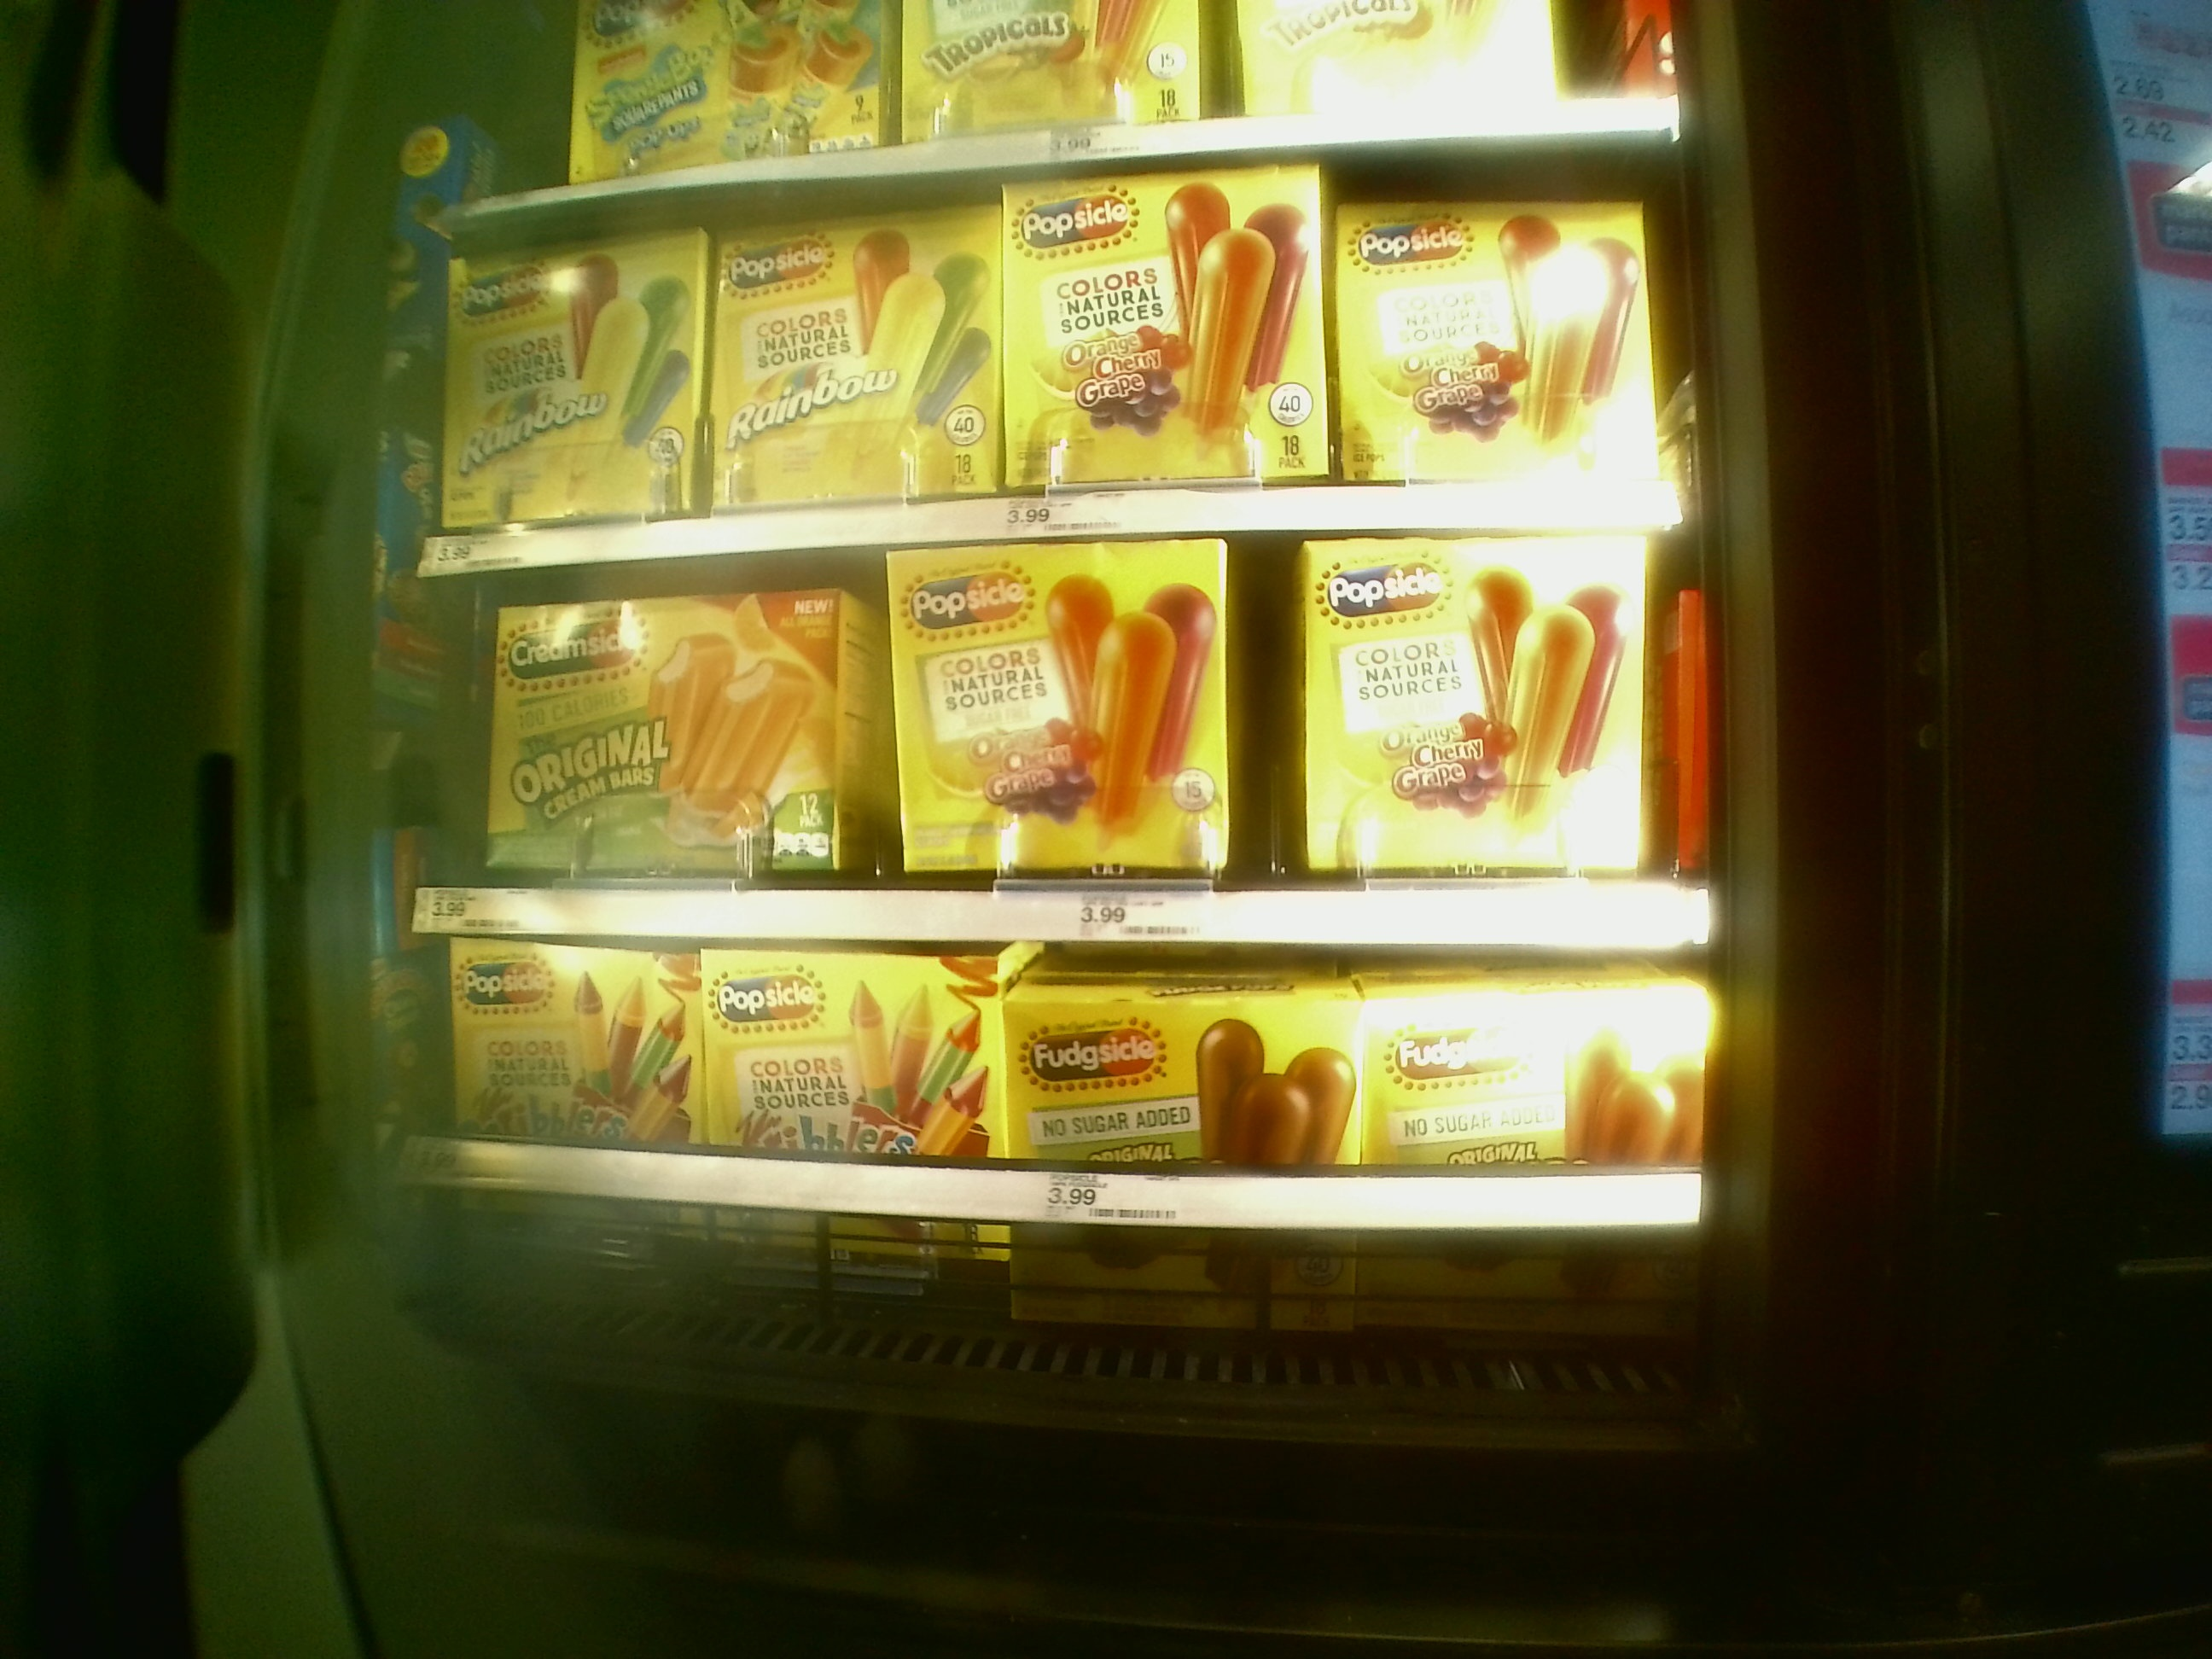frozen-food-shelf: (404, 579, 1716, 948), (416, 199, 1691, 551), (402, 939, 1709, 1222)
